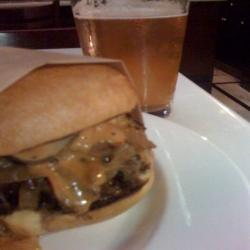burger: (2, 43, 160, 240)
